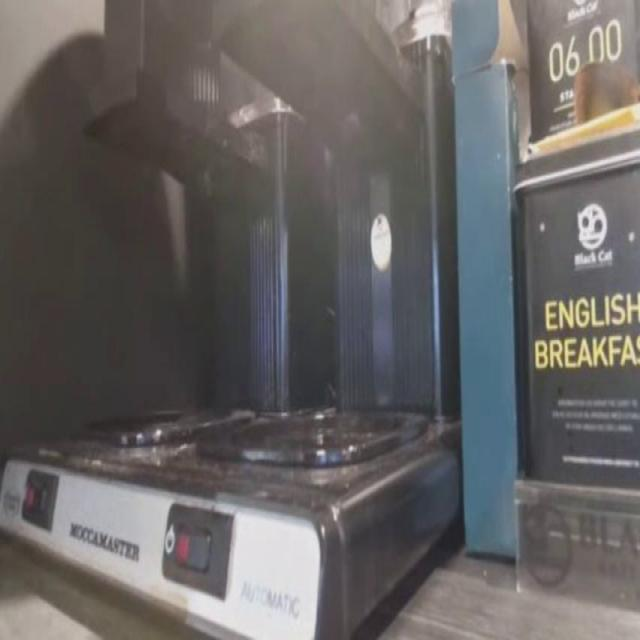empty: (203, 44, 451, 519), (44, 80, 271, 478)
